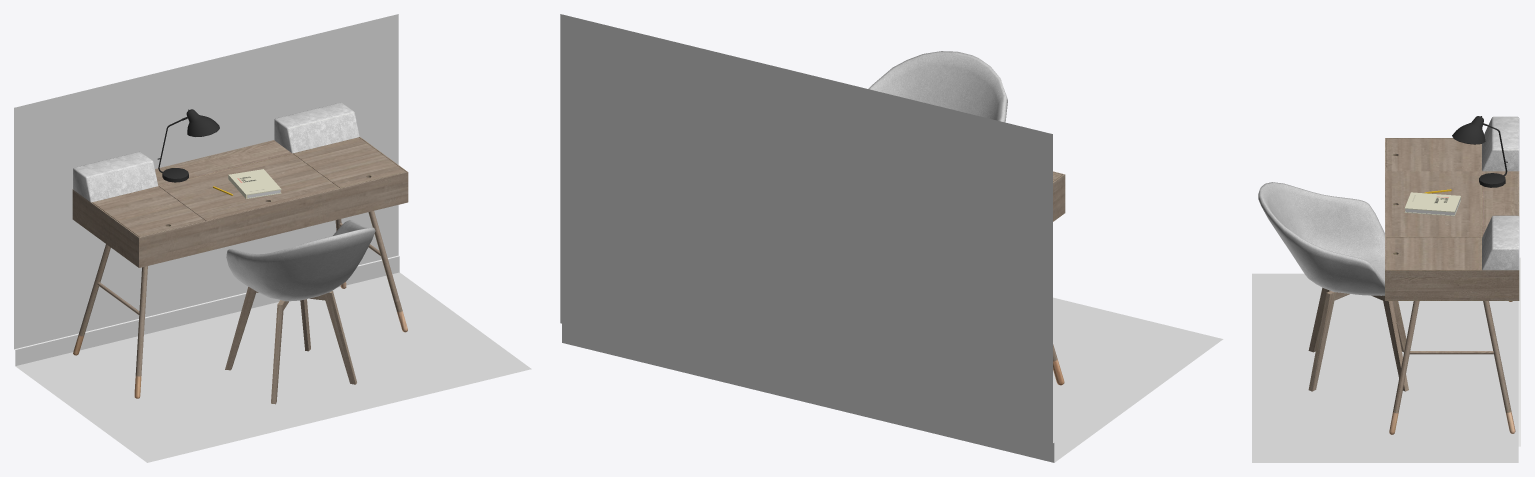
The picture shows the model from 3 angles, left to right: view 1: azimuth 30°, elevation 25°; view 2: azimuth 150°, elevation 25°; view 3: azimuth 270°, elevation 25°; orthographic projection. The views are drawn at different scales.
Parts seen in each view (by area): view 1: plano04, plano01, contemporary_desk, contemporary_chair, plano02, contemporary_book, contemporary_desk_lamp; view 2: plano04, plano01, plano02, contemporary_chair, contemporary_desk; view 3: plano01, contemporary_desk, contemporary_chair, contemporary_book, contemporary_desk_lamp, plano03.
Part boxes in pixels (box(x1,y1,x2,y2)): plano04: box(14, 14, 398, 349); plano01: box(15, 272, 531, 462); contemporary_desk: box(72, 102, 408, 398); contemporary_chair: box(225, 220, 375, 404); plano02: box(15, 256, 399, 365); contemporary_book: box(213, 169, 281, 199); contemporary_desk_lamp: box(157, 109, 219, 182); plano04: box(560, 14, 1052, 443); plano01: box(1053, 297, 1223, 462); plano02: box(562, 323, 1054, 462); contemporary_chair: box(868, 51, 1007, 122); contemporary_desk: box(1053, 171, 1065, 385); plano01: box(1252, 273, 1518, 462); contemporary_desk: box(1385, 116, 1519, 434); contemporary_chair: box(1258, 182, 1408, 391); contemporary_book: box(1404, 189, 1460, 216); contemporary_desk_lamp: box(1452, 116, 1507, 187); plano03: box(1518, 257, 1520, 446).
Size of the model in its own units: 2 by 1.28 by 1.2.
